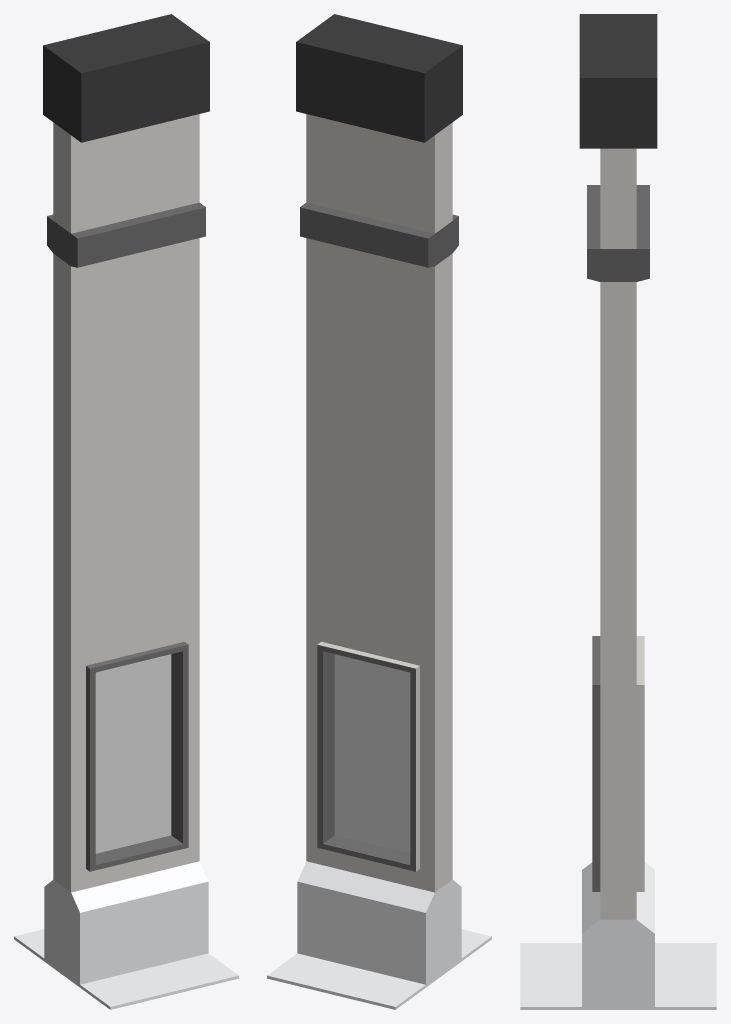
The model's file is Wall-Window-1sq.fbx.
3 views of the same model, side by side, from view 1: azimuth 30°, elevation 25°; view 2: azimuth 150°, elevation 25°; view 3: azimuth 270°, elevation 25° (orthographic).
Visible parts, largest first — view 1: Window1sq, WindowPane1sq; view 2: Window1sq, WindowPane1sq; view 3: Window1sq.
Boxes of the visible parts, x1,y1,x2,y2 form: Window1sq: (14, 14, 238, 1009); WindowPane1sq: (95, 654, 171, 853); Window1sq: (267, 14, 491, 1009); WindowPane1sq: (334, 654, 410, 853); Window1sq: (520, 14, 716, 1009).
Bounding box in the file's own units: 1.32 × 1.72 × 9.02.
